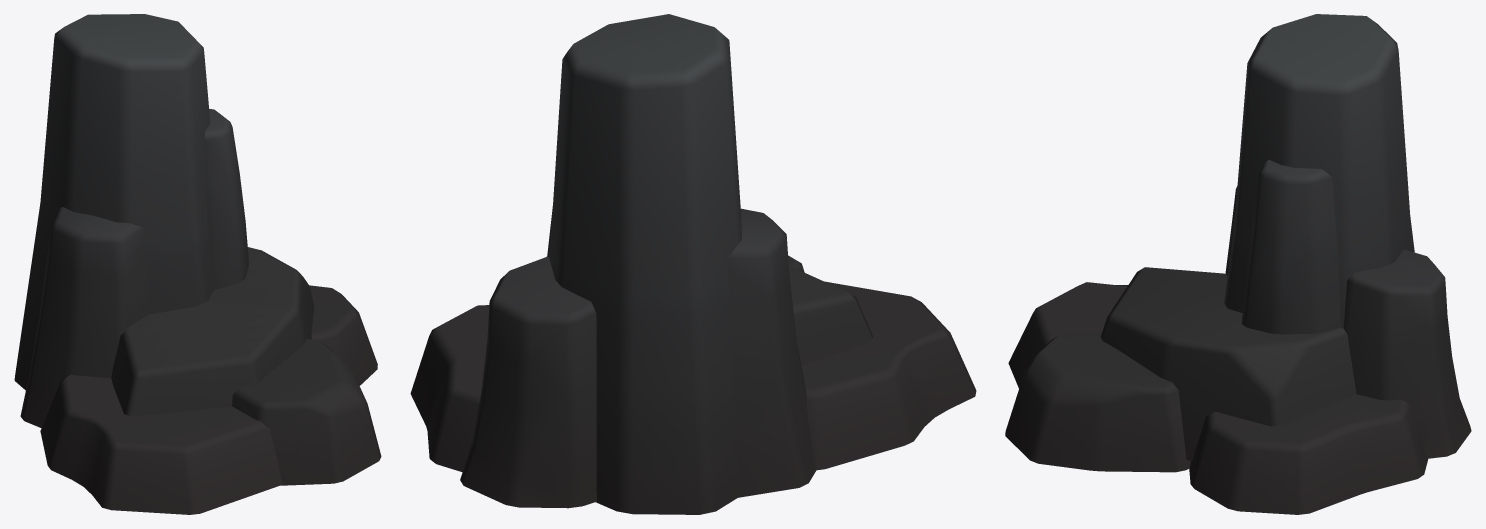
Rendered from inferno-rock-mid-003.glb.
3 renders of one model, left to right at view 1: azimuth 30°, elevation 25°; view 2: azimuth 150°, elevation 25°; view 3: azimuth 270°, elevation 25°, orthographic. The views are drawn at different scales.
Visible parts, largest first — view 1: RockMid_003; view 2: RockMid_003; view 3: RockMid_003.
Part boxes in pixels (left/top/right/bottom): RockMid_003: left=14, top=14, right=381, bottom=514; RockMid_003: left=410, top=14, right=976, bottom=514; RockMid_003: left=1005, top=14, right=1471, bottom=514.
Bounding box in the file's own units: 9.06 × 8.48 × 9.72.
Materials: 1 (1 with a texture image).
